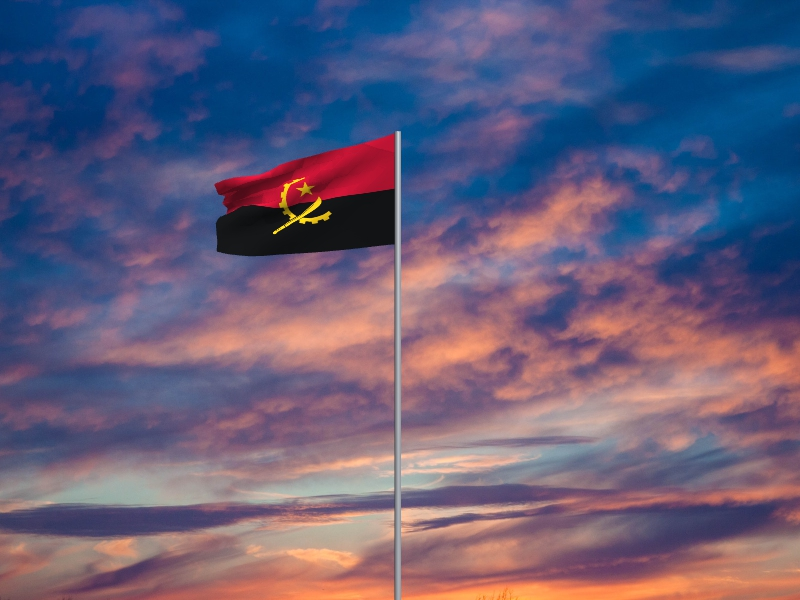ao: (214, 134, 396, 258)
